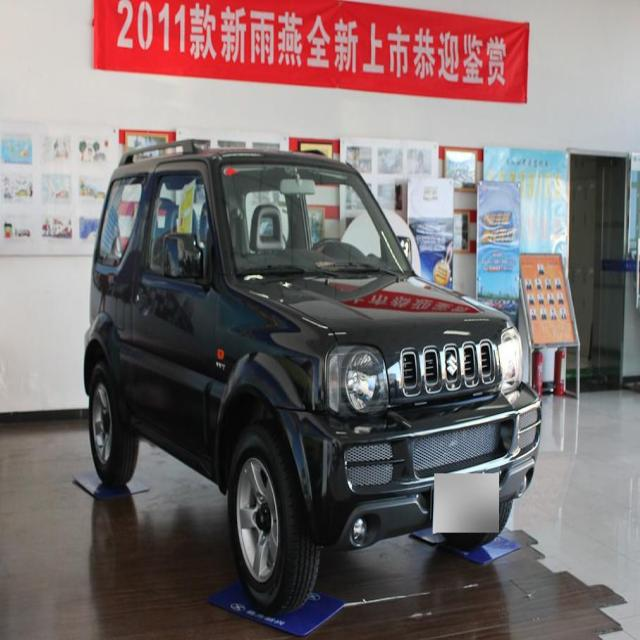front_bumper: (270, 384, 542, 550)
front_glass: (218, 159, 414, 282)
front_left_side_light: (498, 326, 524, 397)
front_right_side_door: (130, 157, 220, 470)
front_right_side_light: (324, 339, 392, 424)
front_right_side_mirror: (162, 232, 206, 282)
wheel: (229, 424, 318, 612), (88, 365, 137, 489)
